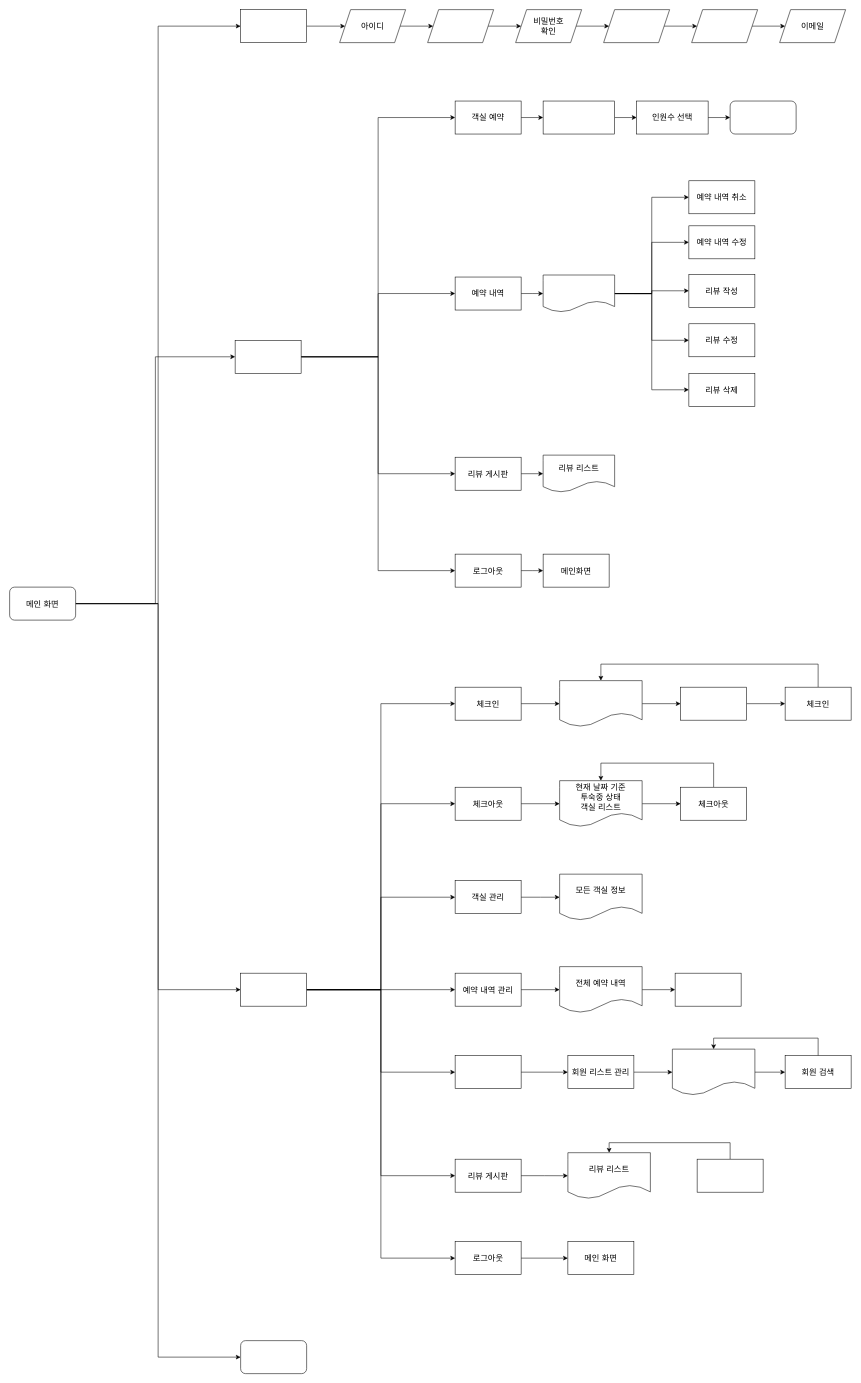
The diagram is 861 pixels wide and 1383 high, and some of its shapes have lost their labels. The centre of each missing label's shape, as x and y in pixels:
"결제" goes at pixel 713 703.
"고객 관리" goes at pixel 488 1072.
"관리자" goes at pixel 273 989.
"날짜 및 객실 선택" goes at pixel 579 117.
"답글 작성" goes at pixel 730 1175.
"비밀번호" goes at pixel 460 26.
"예약 내역 검색" goes at pixel 708 989.
"예약 내역 리스트" goes at pixel 579 293.
"예약 정보 확인" goes at pixel 763 117.
"이름" goes at pixel 636 26.
"전화번호" goes at pixel 724 26.
"프로그램 종료" goes at pixel 273 1357.
"현재 날짜 기준 예약 완료 상태 객실 리스트" goes at pixel 600 703.
"회원" goes at pixel 268 356.
"회원 리스트" goes at pixel 713 1072.
"회원가입" goes at pixel 273 26.
